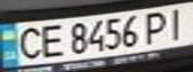4: (84, 17, 109, 53)
5: (103, 16, 127, 51)
6: (121, 12, 145, 48)
8: (66, 19, 90, 55)
C: (12, 25, 45, 61)
E: (36, 21, 66, 59)
I: (160, 4, 193, 40)
P: (139, 8, 175, 44)
